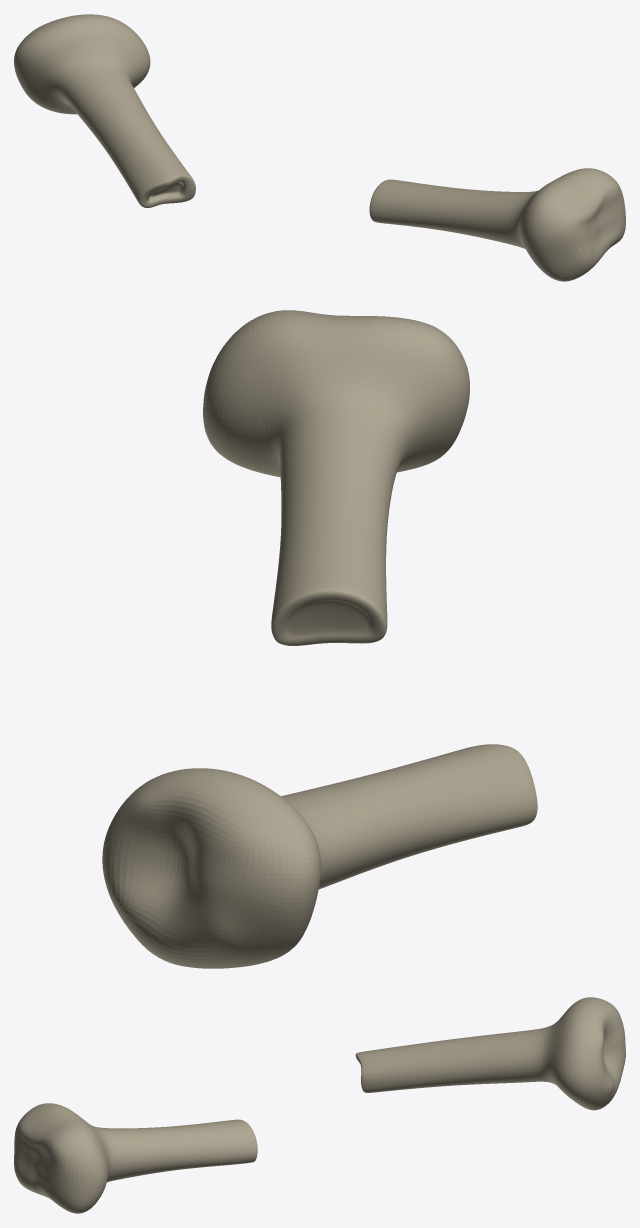
The model's file is BrokenBone.fbx.
3 renders of one model, top to bottom at view 1: azimuth 30°, elevation 25°; view 2: azimuth 150°, elevation 25°; view 3: azimuth 270°, elevation 25°, orthographic. The views are drawn at different scales.
Parts seen in each view (by area): view 1: BrokenBone; view 2: BrokenBone; view 3: BrokenBone.
Boxes of the visible parts, x1,y1,x2,y2 form: BrokenBone: [14, 14, 625, 281]; BrokenBone: [102, 310, 537, 968]; BrokenBone: [14, 997, 625, 1213].
Size of the model in its own units: 13.87 by 3.95 by 23.49.
